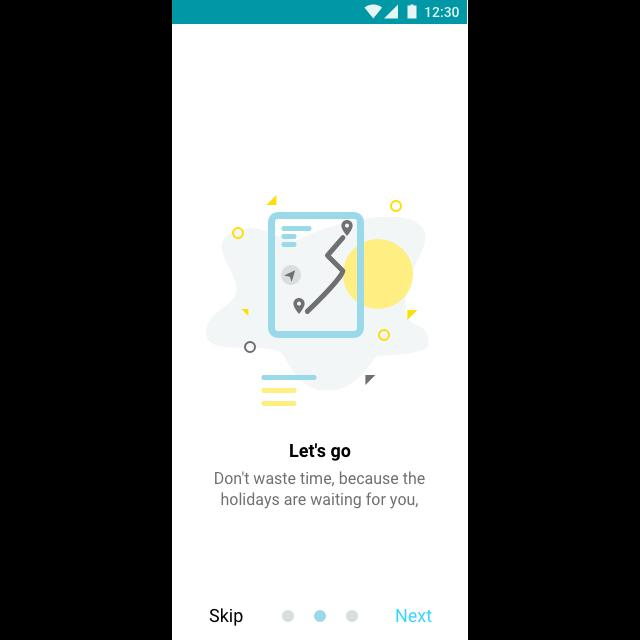image: (206, 195, 430, 407)
pageindicator: (281, 609, 359, 623)
text: (214, 470, 426, 510), (290, 442, 352, 462), (210, 607, 244, 627), (394, 608, 434, 624)
uppertaskbar: (172, 1, 468, 25)
